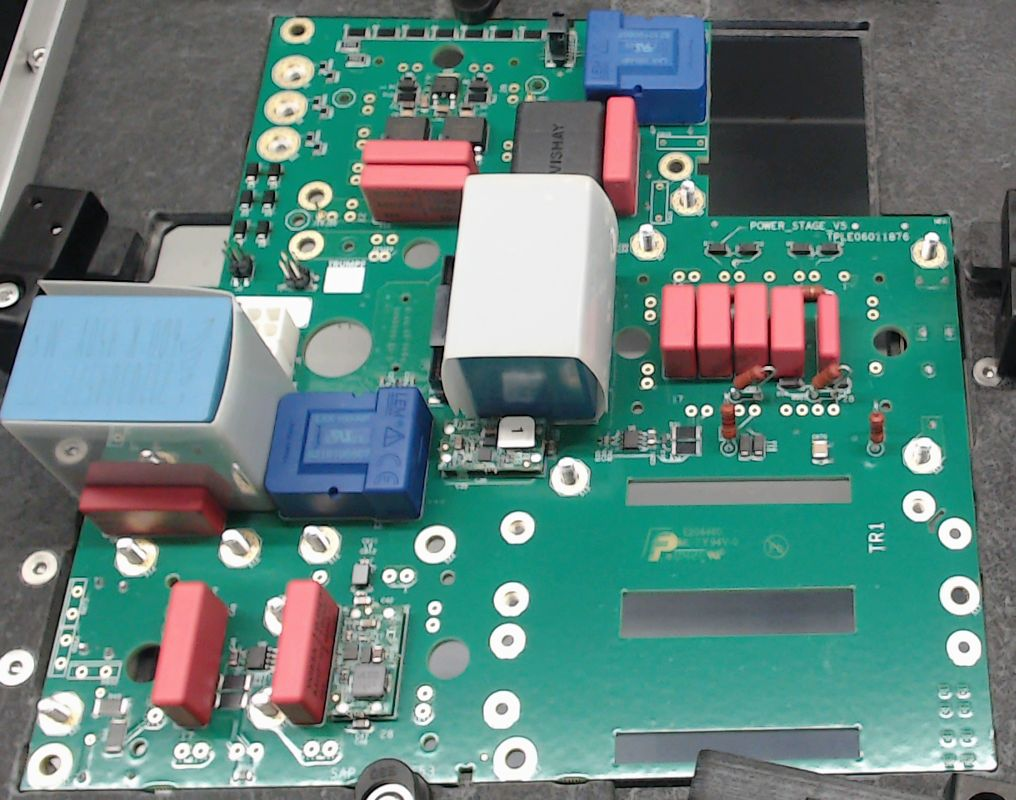comp1: (266, 385, 433, 523), (586, 11, 710, 125)
comp2: (148, 582, 221, 729), (270, 580, 339, 725), (78, 485, 229, 537), (358, 166, 472, 223), (601, 98, 640, 215), (730, 281, 767, 389), (695, 282, 733, 381), (659, 282, 696, 381), (768, 285, 805, 378), (362, 140, 472, 163), (815, 292, 842, 376)
comp3: (510, 99, 604, 180)
comp4: (1, 279, 296, 514), (439, 172, 618, 426)
